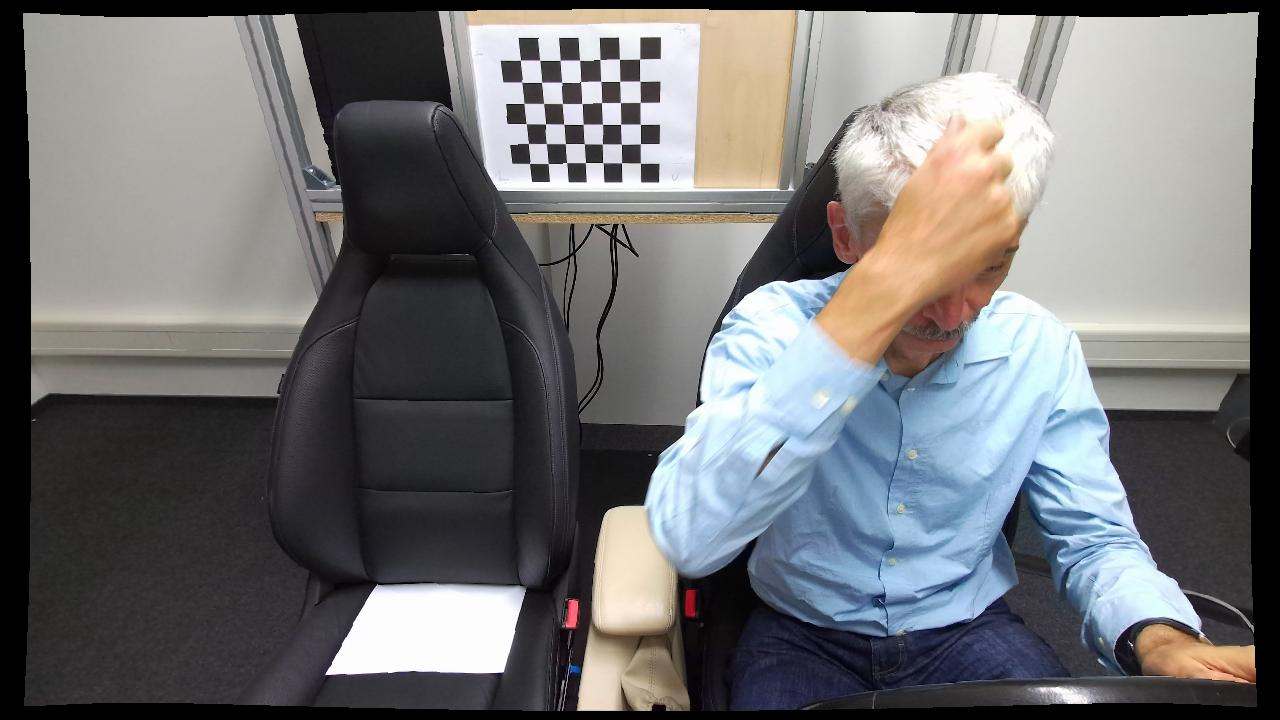Distracted: (639, 63, 1145, 707)
